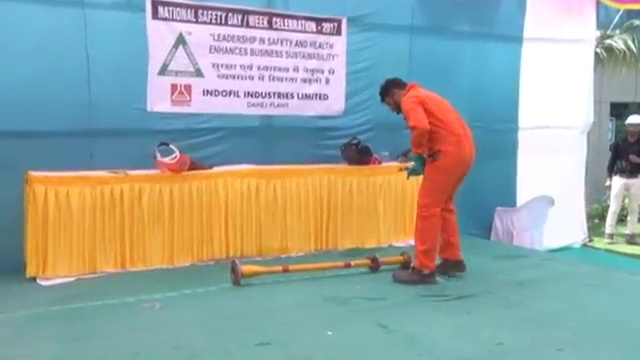helmet: (624, 112, 640, 127)
helmet_off: (378, 77, 410, 114)
helmet_on: (623, 112, 640, 145)
person: (373, 73, 477, 286), (603, 113, 640, 247)
